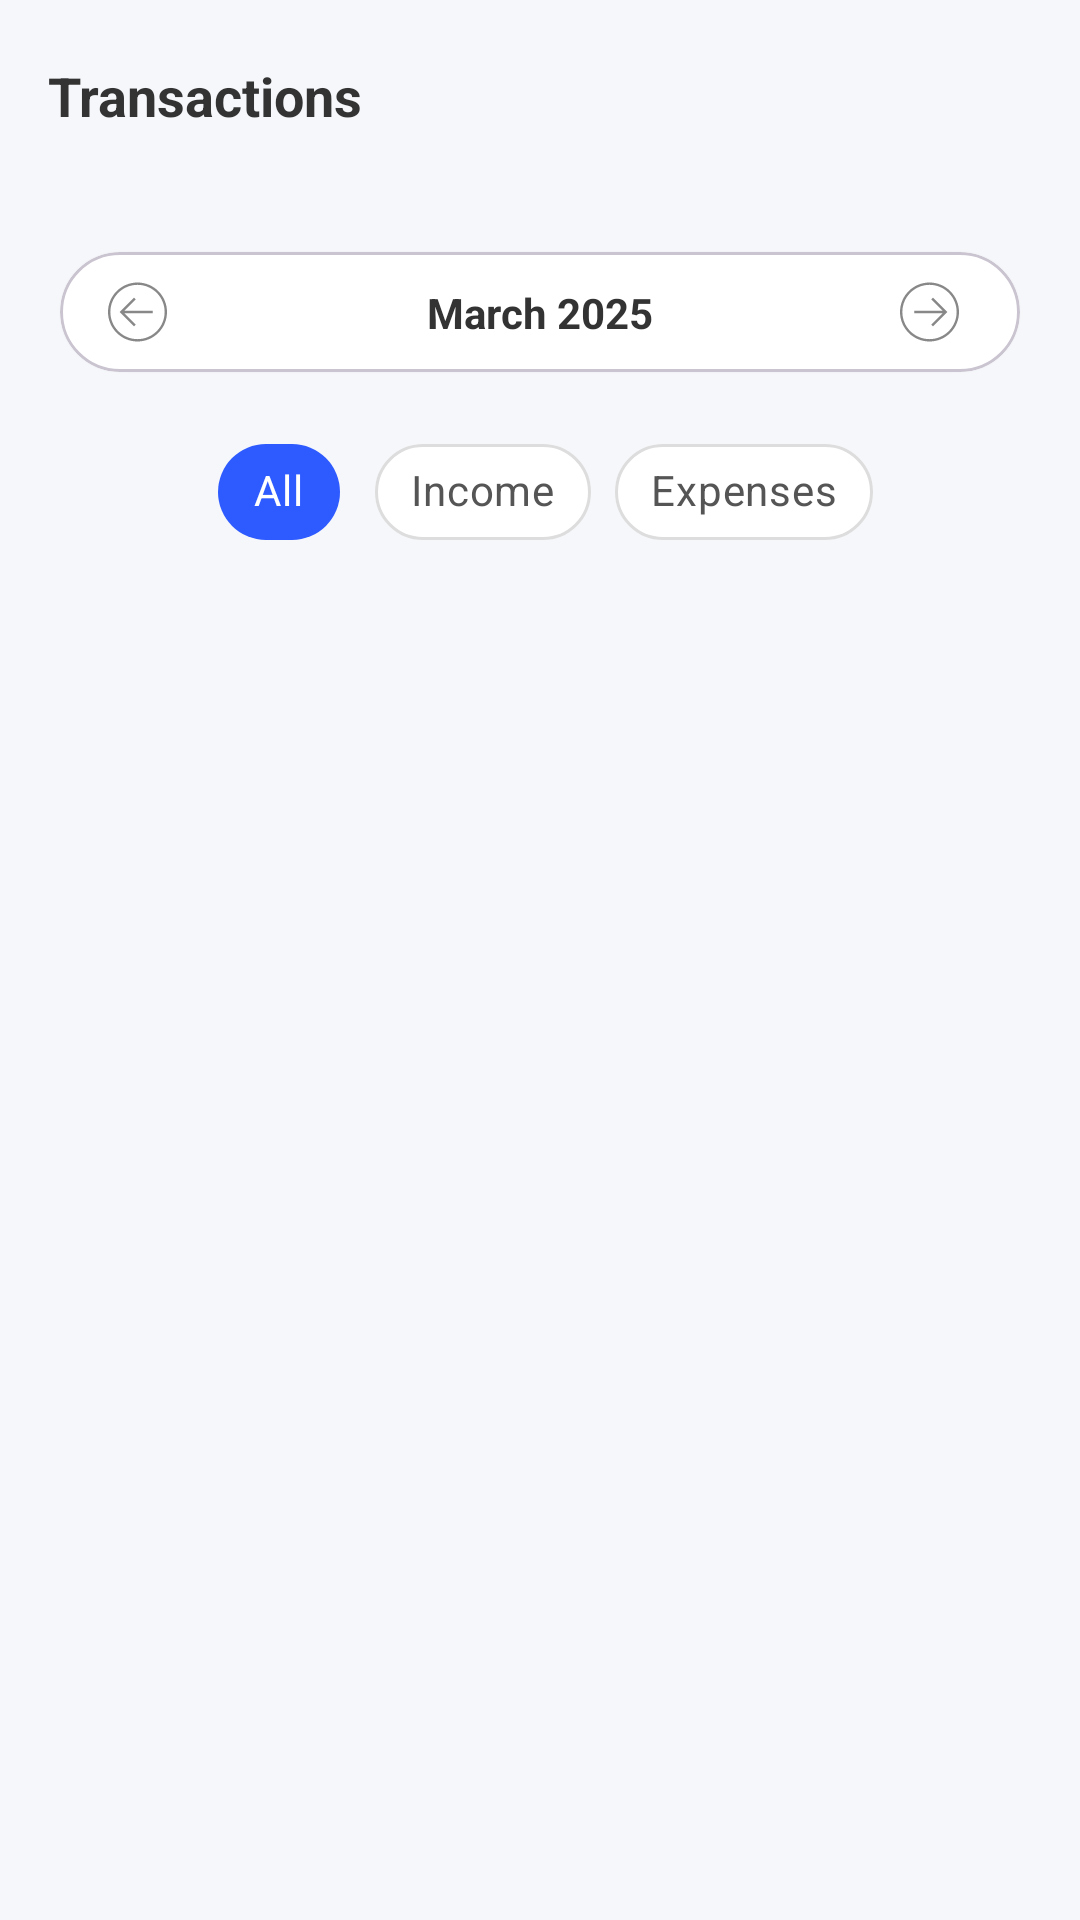

Icons on this 1080*1920 Android screen, each with the point to tap as point (x, y):
Next month: point (929, 312)
Previous month: point (137, 312)
